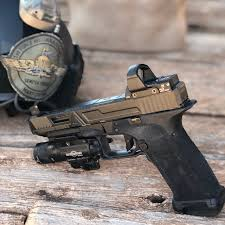gun: (24, 60, 225, 216)
